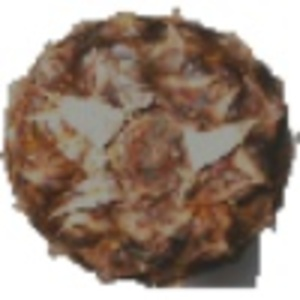abacaxi: (5, 16, 297, 278)
